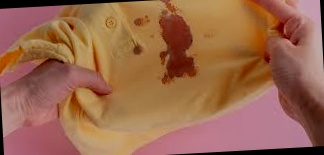blood: (160, 15, 197, 80)
